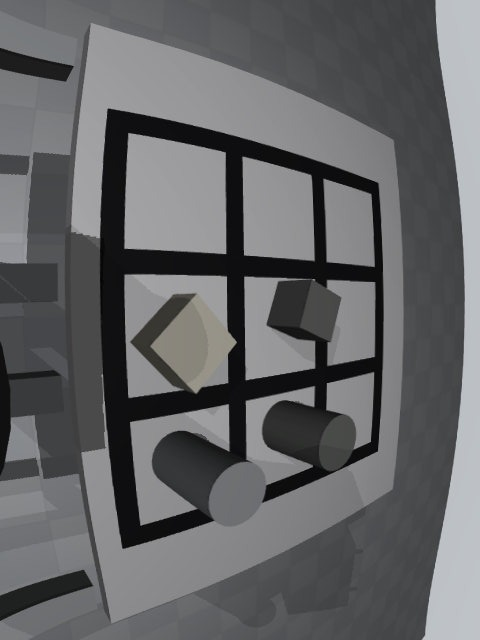can: (152, 431, 266, 527)
cube: (266, 279, 342, 342)
cylinder: (262, 400, 357, 471)
foam: (131, 294, 237, 394)
